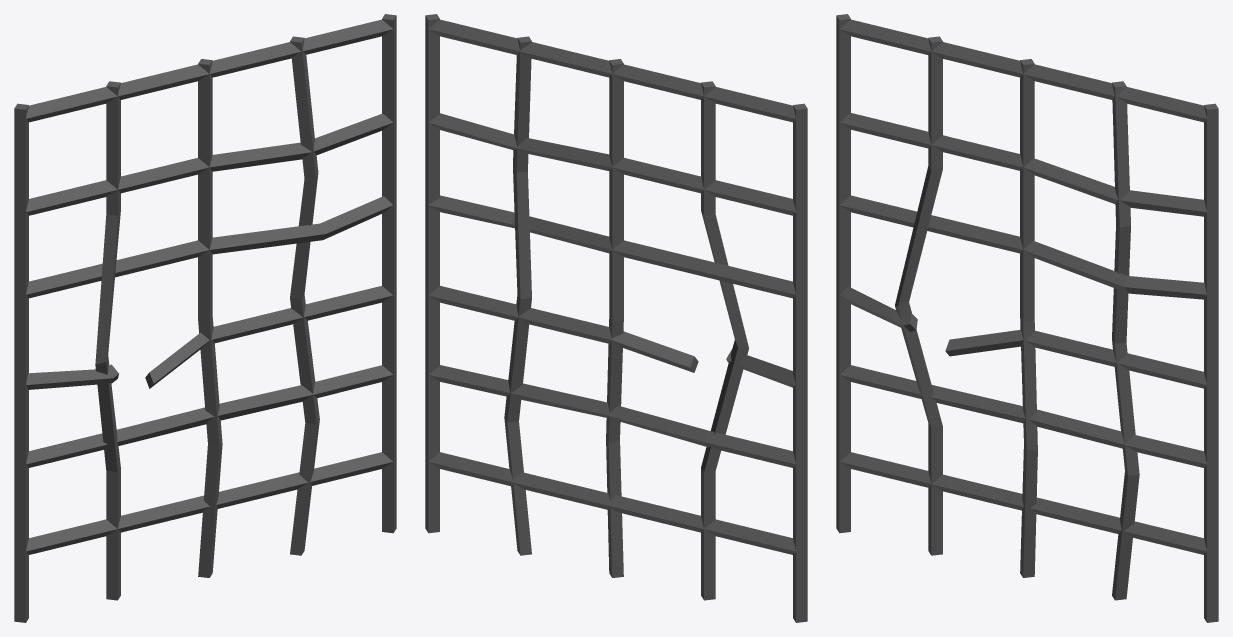
File: IronLatticeGateBroken.fbx
The picture shows the model from 3 angles, left to right: view 1: azimuth 30°, elevation 25°; view 2: azimuth 150°, elevation 25°; view 3: azimuth 330°, elevation 25°; orthographic projection.
Visible parts, largest first — view 1: IronLatticeGateBroken; view 2: IronLatticeGateBroken; view 3: IronLatticeGateBroken.
Boxes of the visible parts, x1,y1,x2,y2 form: IronLatticeGateBroken: (14,14,396,622); IronLatticeGateBroken: (425,14,807,622); IronLatticeGateBroken: (836,14,1218,622).
Size of the model in its own units: 218 by 280 by 19.88.
1 material, 1 textured.
